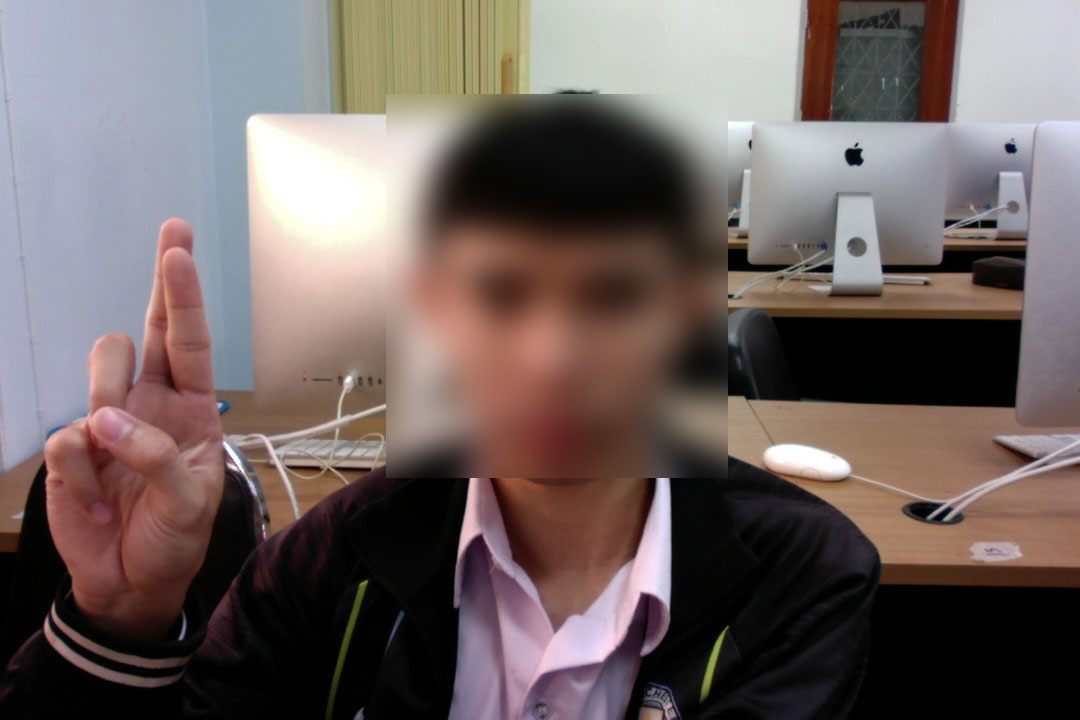rao: (31, 211, 235, 608)
